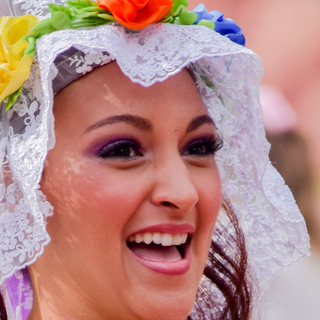eye: (94, 134, 148, 166), (174, 132, 222, 165)
